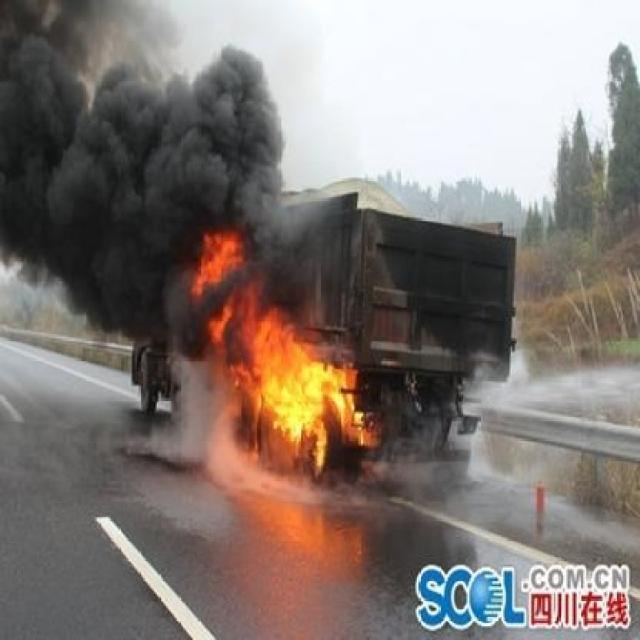Fire: (190, 228, 378, 492)
Smoke: (2, 2, 284, 228), (2, 232, 194, 358)
